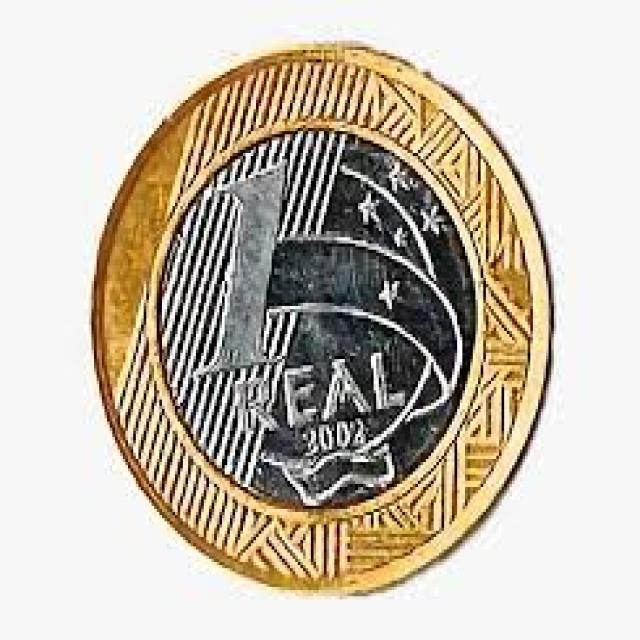1 real: (92, 44, 567, 594)
